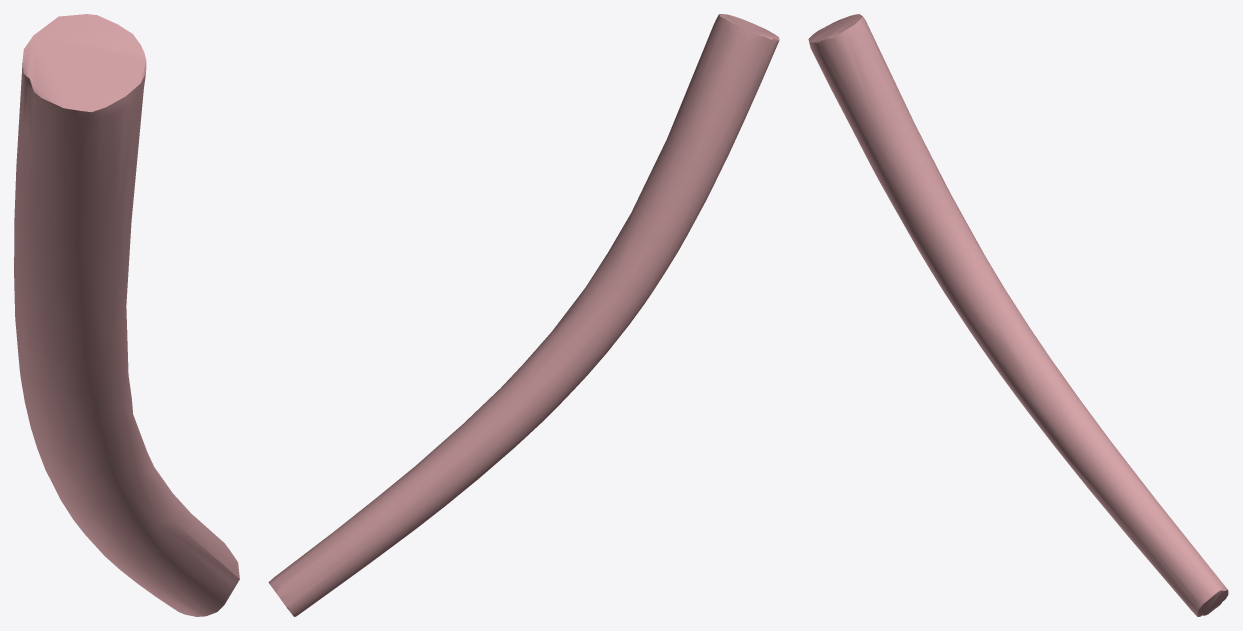
Rendered from fma68591_fj6563.glb.
3 renders of one model, left to right at view 1: azimuth 30°, elevation 25°; view 2: azimuth 150°, elevation 25°; view 3: azimuth 270°, elevation 25°, orthographic. The views are drawn at different scales.
Parts seen in each view (by area): view 1: FMA68591_FJ6563; view 2: FMA68591_FJ6563; view 3: FMA68591_FJ6563.
Boxes of the visible parts, x1,y1,x2,y2 form: FMA68591_FJ6563: (14,14,239,616); FMA68591_FJ6563: (268,14,779,616); FMA68591_FJ6563: (808,14,1228,616).
Size of the model in its own units: 0.0159 by 0.0256 by 0.0201.
